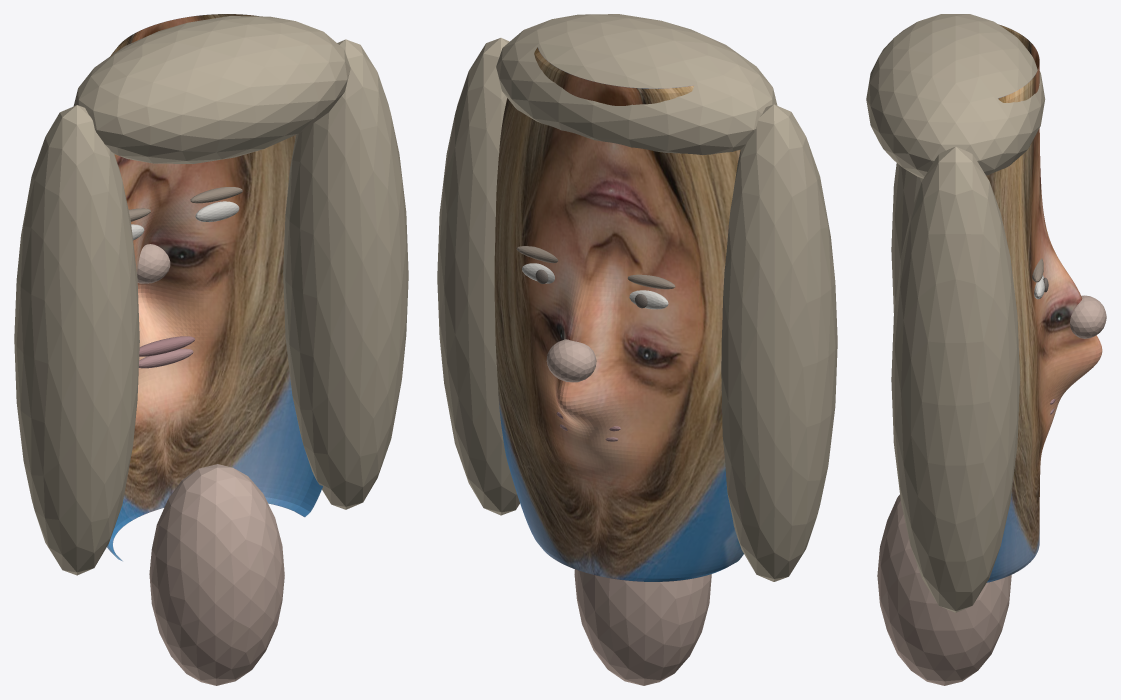
Rendered from barbra_streisand_face (1).glb.
3 renders of one model, left to right at view 1: azimuth 30°, elevation 25°; view 2: azimuth 150°, elevation 25°; view 3: azimuth 270°, elevation 25°, orthographic. The views are drawn at different scales.
Visible parts, largest first — view 1: Textured_Face, Hair_Left, Hair_Right, Hair_Crown, Neck, Nose_Tip, Upper_Lip, Eye_1, Lower_Lip; view 2: Textured_Face, Hair_Left, Hair_Crown, Hair_Right, Neck, Nose_Tip; view 3: Hair_Right, Hair_Crown, Textured_Face, Neck, Hair_Left, Nose_Tip.
Boxes of the visible parts, box(x1,y1,x2,y2) form: Textured_Face: box(107, 14, 322, 561); Hair_Left: box(14, 105, 139, 575); Hair_Right: box(283, 39, 408, 509); Hair_Crown: box(73, 16, 350, 163); Neck: box(149, 464, 284, 685); Nose_Tip: box(137, 244, 170, 283); Upper_Lip: box(139, 336, 194, 356); Eye_1: box(195, 201, 239, 222); Lower_Lip: box(139, 348, 193, 368); Textured_Face: box(494, 47, 743, 581); Hair_Left: box(721, 104, 837, 581); Hair_Crown: box(496, 14, 777, 155); Hair_Right: box(437, 38, 519, 515); Neck: box(574, 569, 711, 685); Nose_Tip: box(546, 339, 596, 382); Hair_Right: box(891, 146, 1019, 612); Hair_Crown: box(866, 14, 1045, 178); Textured_Face: box(986, 24, 1102, 582); Neck: box(877, 494, 1011, 685); Hair_Left: box(891, 163, 922, 312); Nose_Tip: box(1070, 295, 1106, 338).
Bounding box in the file's own units: 1.54 × 2.53 × 0.86.
1 material, 1 textured.
